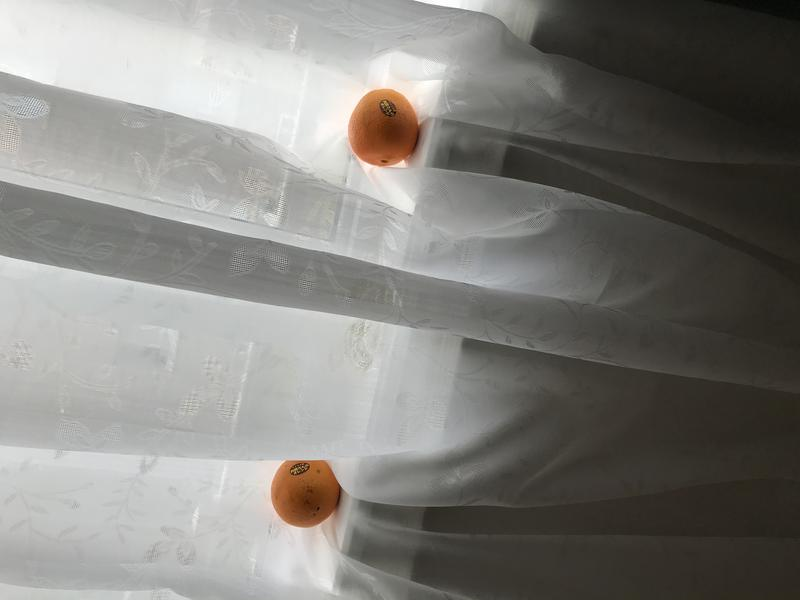orange: (345, 86, 424, 174), (264, 450, 347, 532)
